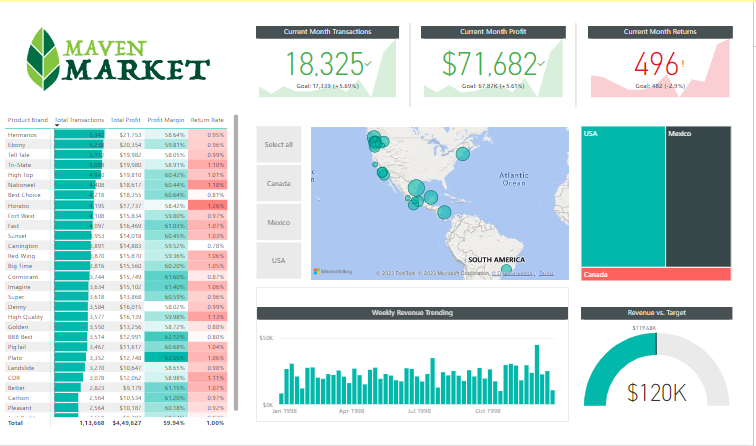

The page's visual inventory and layout, read from the dashboard file:
{"tool":"powerbi","page":{"name":"Topline Performance","canvas":[1280,720],"ordinal":0},"visuals":[{"type":"image","box":[40,7.5,346.6,132.7],"z":0},{"type":"pivotTable","fields":{"Values":["Transaction_Data.Total Transactions","Transaction_Data.Total Profit","Transaction_Data.Profit Margin","Return_Data.Return Rate"],"Rows":["Products.product_brand"]},"box":[20.6,161.3,401.5,536],"z":1000},{"type":"kpi","title":"Current Month Transactions","fields":{"TrendLine":["Calendar.Start of Month"],"Goal":["Transaction_Data.Last Month Transactions"],"Indicator":["Transaction_Data.Total Transactions"]},"box":[445.9,19,240.2,124.7],"z":2000},{"type":"kpi","title":"Current Month Profit","fields":{"TrendLine":["Calendar.Start of Month"],"Goal":["Transaction_Data.Last Month Profit"],"Indicator":["Transaction_Data.Total Profit"]},"box":[723.3,19,242.5,124.7],"z":3000},{"type":"kpi","title":"Current Month Returns","fields":{"TrendLine":["Calendar.Start of Month"],"Goal":["Return_Data.Last Month Returns"],"Indicator":["Return_Data.Total Returns"]},"box":[1003,19,242.5,124.7],"z":4000},{"type":"map","fields":{"Category":["Stores.store_city"],"Size":["Transaction_Data.Total Transactions"]},"box":[532.8,182.5,442.7,266.5],"z":5000},{"type":"slicer","fields":{"Values":["Stores.store_country"]},"box":[420.5,178.9,124.7,270],"z":6000},{"type":"columnChart","title":"Weekly Revenue Trending","fields":{"Category":["Calendar.Start of Week"],"Y":["Transaction_Data.Total Revenue"]},"box":[445.9,490,525.3,192.2],"z":7000},{"type":"gauge","title":"Revenue vs. Target","fields":{"Y":["Transaction_Data.Total Revenue"],"TargetValue":["Transaction_Data.Revenue Target"]},"box":[991.1,490,254.4,171.6],"z":8000},{"type":"basicShape","box":[671.7,2.9,67.5,161.3],"z":9000},{"type":"basicShape","box":[950.3,2.9,67.5,161.3],"z":10000},{"type":"treemap","fields":{"Group":["Stores.store_country","Stores.store_state","Stores.store_city"],"Values":["Transaction_Data.Total Transactions"]},"box":[985.8,181.4,261.9,270],"z":11000}]}

Visuals, with their boxes on the page's 1280x720 design canvas (x1, y1, x2, y2). These are canvas units, not pixel positions in the 756x446 screenshot, which may show the page scaled, cropped or inside an application window:
image: l=40, t=8, r=387, b=140
pivotTable - Transaction_Data.Total Transactions x Transaction_Data.Total Profit: l=21, t=161, r=422, b=697
"Current Month Transactions" kpi: l=446, t=19, r=686, b=144
"Current Month Profit" kpi: l=723, t=19, r=966, b=144
"Current Month Returns" kpi: l=1003, t=19, r=1246, b=144
map - Stores.store_city x Transaction_Data.Total Transactions: l=533, t=182, r=976, b=449
slicer - Stores.store_country: l=420, t=179, r=545, b=449
"Weekly Revenue Trending" columnChart: l=446, t=490, r=971, b=682
"Revenue vs. Target" gauge: l=991, t=490, r=1246, b=662
basicShape: l=672, t=3, r=739, b=164
basicShape: l=950, t=3, r=1018, b=164
treemap - Stores.store_country x Stores.store_state: l=986, t=181, r=1248, b=451
